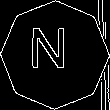N_S: (35, 30, 75, 80)
